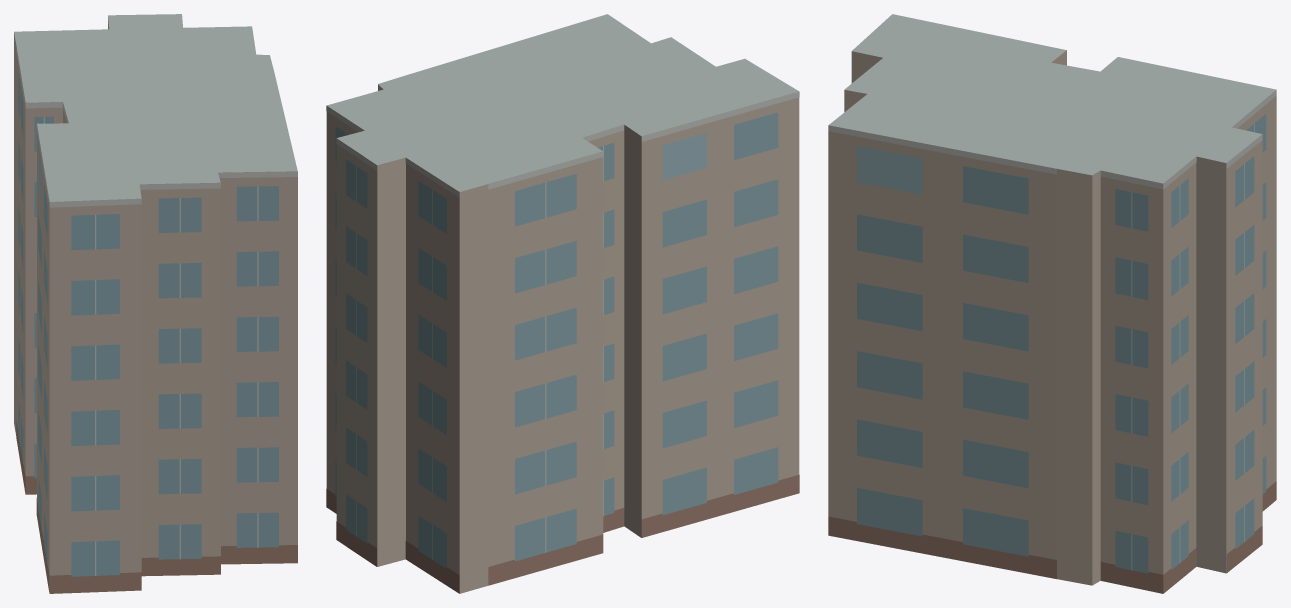
Rendered from survey-upis-32653831.glb.
3 renders of one model, left to right at view 1: azimuth 30°, elevation 25°; view 2: azimuth 150°, elevation 25°; view 3: azimuth 270°, elevation 25°, orthographic. The views are drawn at different scales.
Visible parts, largest first — view 1: survey-upis-32653831.tmp; view 2: survey-upis-32653831.tmp; view 3: survey-upis-32653831.tmp.
Part boxes in pixels (x1,y1,x2,y2): survey-upis-32653831.tmp: (14,14,297,593); survey-upis-32653831.tmp: (326,14,799,593); survey-upis-32653831.tmp: (828,14,1276,593).
Size of the model in its own units: 15.08 by 17 by 16.84.
